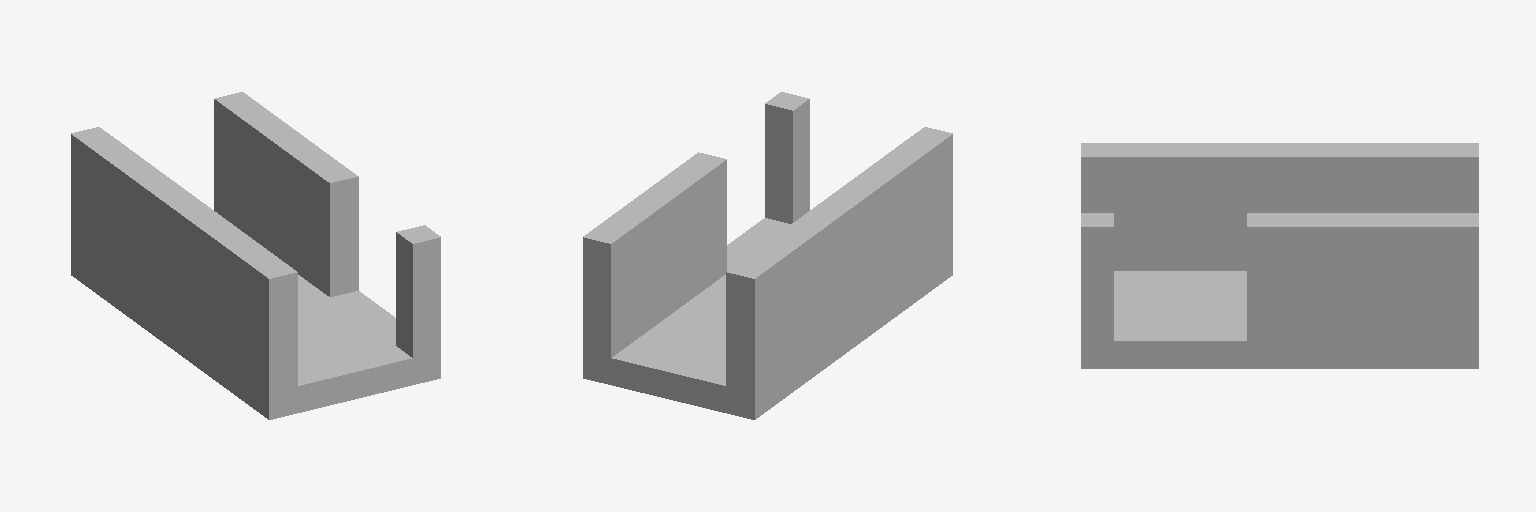
Rendered from module5.obj.
The picture shows the model from 3 angles: view 1: azimuth 30°, elevation 25°; view 2: azimuth 150°, elevation 25°; view 3: azimuth 270°, elevation 25°; orthographic projection.
Parts seen in each view (by area): view 1: Cube.005; view 2: Cube.005; view 3: Cube.005.
Part boxes in pixels (bbox=[...]): Cube.005: bbox=[71, 92, 440, 419]; Cube.005: bbox=[583, 92, 952, 419]; Cube.005: bbox=[1081, 143, 1478, 368].
Size of the model in its own units: 6 by 4.7 by 12.